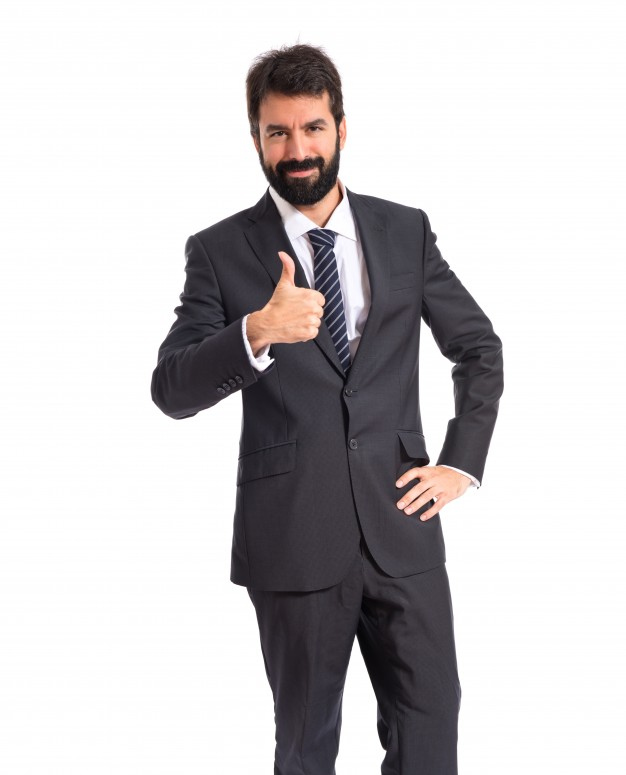thumbsup: (277, 251, 325, 341)
